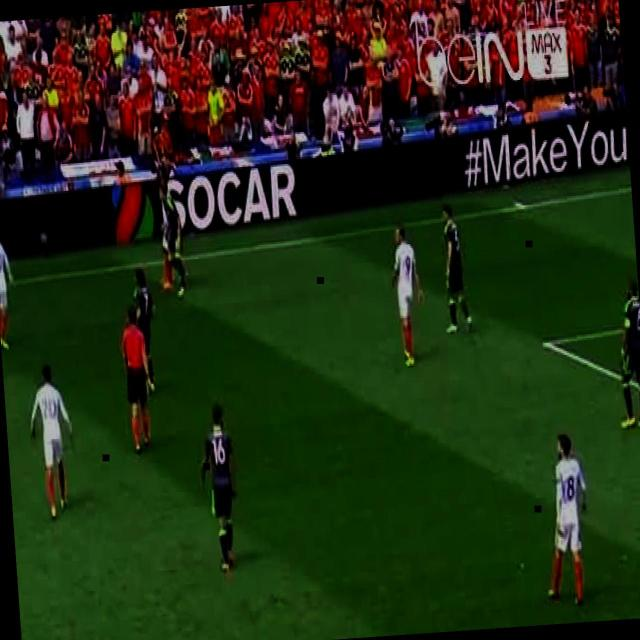player-white: (536, 433, 594, 607), (26, 362, 80, 520), (195, 401, 242, 574), (118, 304, 156, 458), (388, 225, 428, 368), (608, 278, 640, 428), (437, 204, 473, 334), (130, 269, 160, 396), (158, 182, 188, 299), (151, 172, 178, 292), (0, 222, 17, 350)
